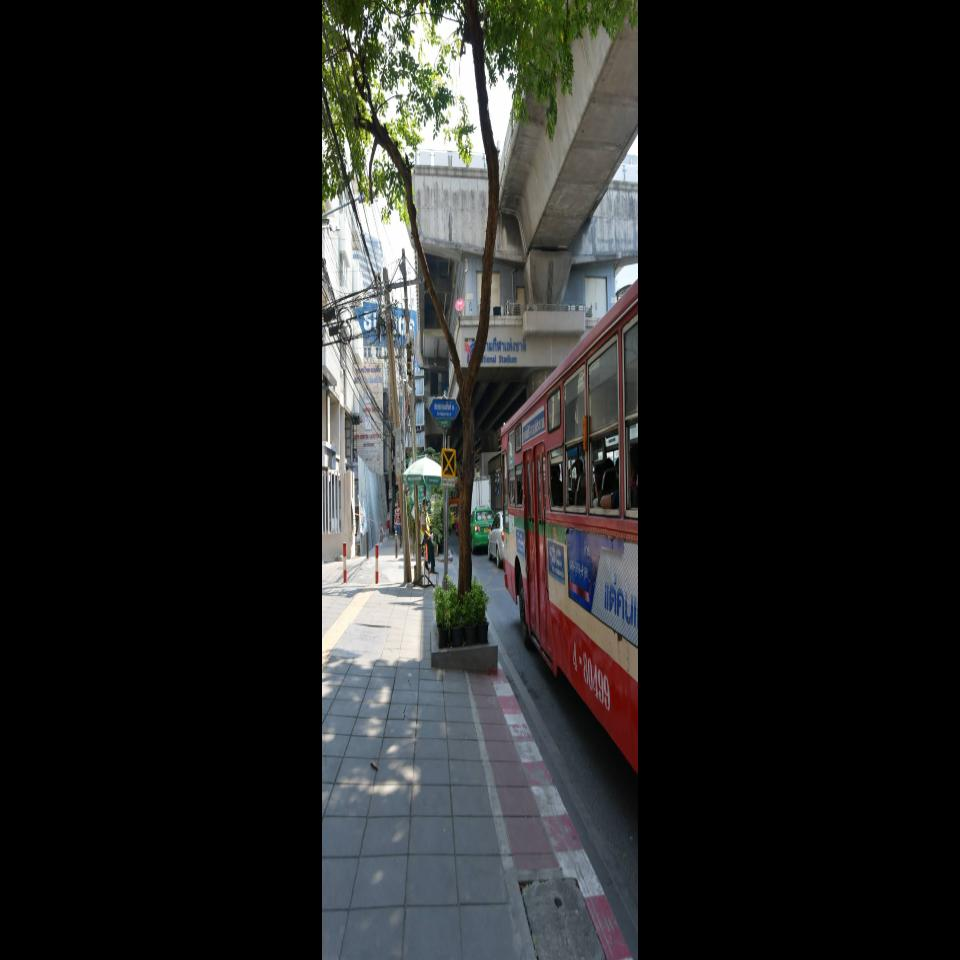signage: (464, 336, 528, 364), (477, 337, 527, 364)
